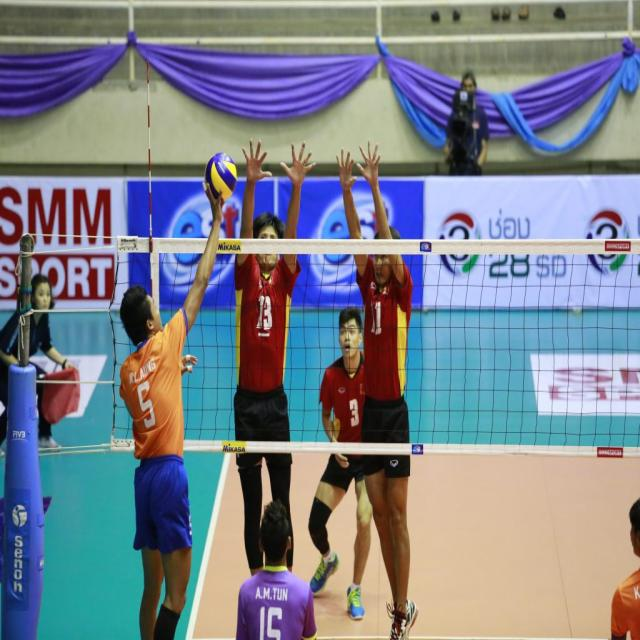body: (115, 180, 232, 639), (328, 136, 421, 639), (230, 134, 318, 578), (307, 305, 374, 621), (0, 271, 76, 457), (234, 498, 319, 640), (442, 70, 490, 176), (608, 497, 640, 639), (425, 4, 567, 24)
